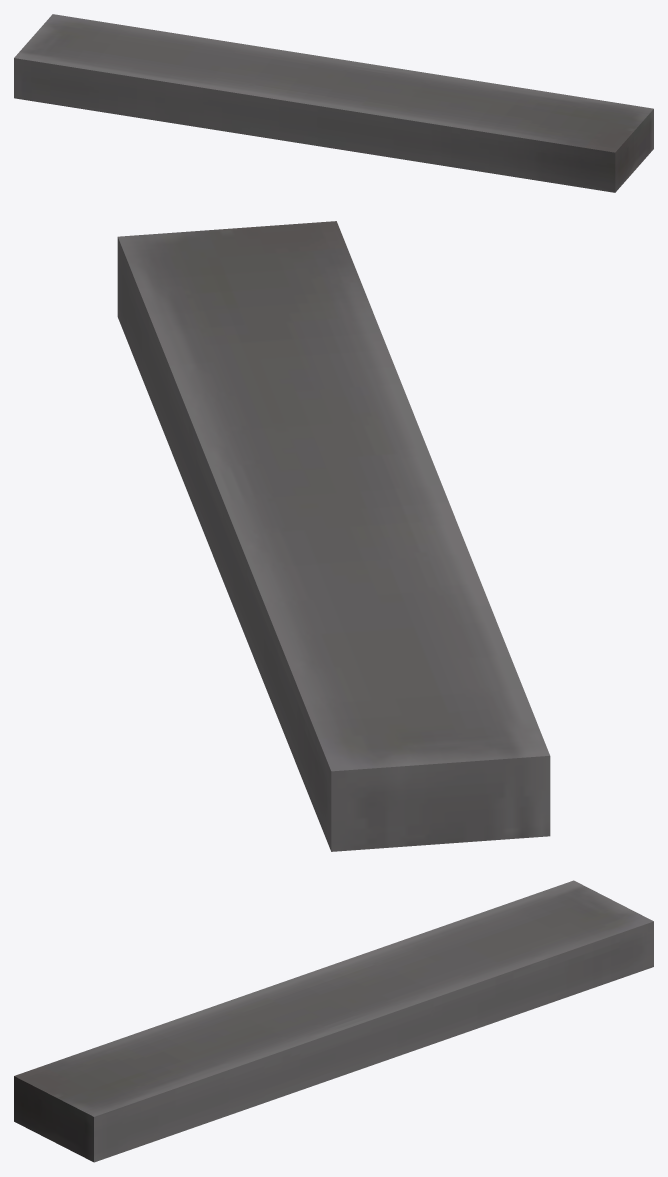
The model's file is rear_support__rear_strut_1.glb.
3 renders of one model, top to bottom at view 1: azimuth 30°, elevation 25°; view 2: azimuth 150°, elevation 25°; view 3: azimuth 270°, elevation 25°, orthographic. The views are drawn at different scales.
Visible parts, largest first — view 1: world; view 2: world; view 3: world.
Boxes of the visible parts, bbox=[...] form: world: bbox=[14, 14, 653, 192]; world: bbox=[117, 221, 550, 851]; world: bbox=[14, 880, 653, 1162].
Size of the model in its own units: 0.2003 by 0.018 by 0.2291.
Materials: 1 (1 with a texture image).
